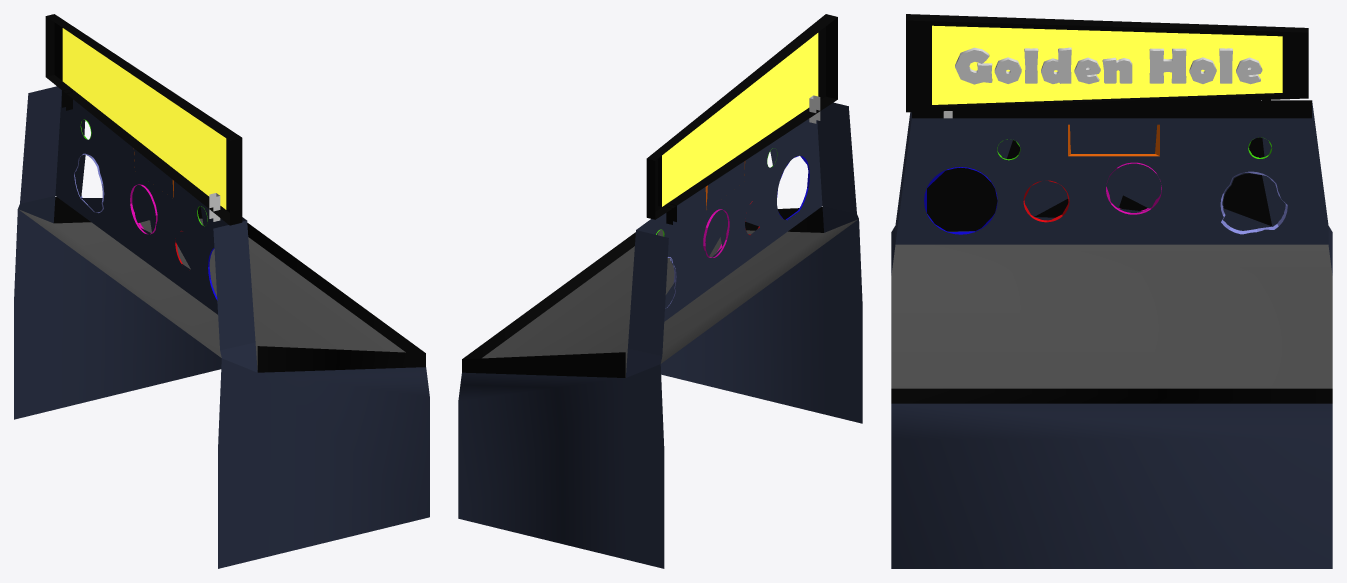
The model's file is golden hole.fbx.
3 renders of one model, left to right at view 1: azimuth 30°, elevation 25°; view 2: azimuth 150°, elevation 25°; view 3: azimuth 270°, elevation 25°, orthographic. The views are drawn at different scales.
Visible parts, largest first — view 1: Maquinita, Maquinita.009, Marco.001, Maquinita.008, Marco; view 2: Maquinita, Maquinita.009, Marco.001, Maquinita.008, Marco; view 3: Maquinita, Maquinita.009, Marco.001, Maquinita.010, Marco, Maquinita.008, Texto.
Boxes of the visible parts, bbox=[...] form: Maquinita: bbox=[14, 86, 429, 568]; Maquinita.009: bbox=[18, 209, 405, 369]; Marco.001: bbox=[62, 28, 226, 209]; Maquinita.008: bbox=[53, 197, 425, 372]; Marco: bbox=[45, 14, 242, 225]; Maquinita: bbox=[458, 102, 862, 568]; Maquinita.009: bbox=[482, 219, 858, 377]; Marco.001: bbox=[662, 33, 818, 206]; Maquinita.008: bbox=[462, 207, 823, 377]; Marco: bbox=[646, 14, 837, 219]; Maquinita: bbox=[891, 100, 1332, 568]; Maquinita.009: bbox=[891, 244, 1332, 388]; Marco.001: bbox=[932, 25, 1282, 104]; Maquinita.010: bbox=[912, 100, 1311, 231]; Marco: bbox=[906, 14, 1308, 112]; Maquinita.008: bbox=[891, 388, 1332, 403]; Texto: bbox=[955, 47, 1262, 84].
Size of the model in its own units: 403 by 763 by 672.
